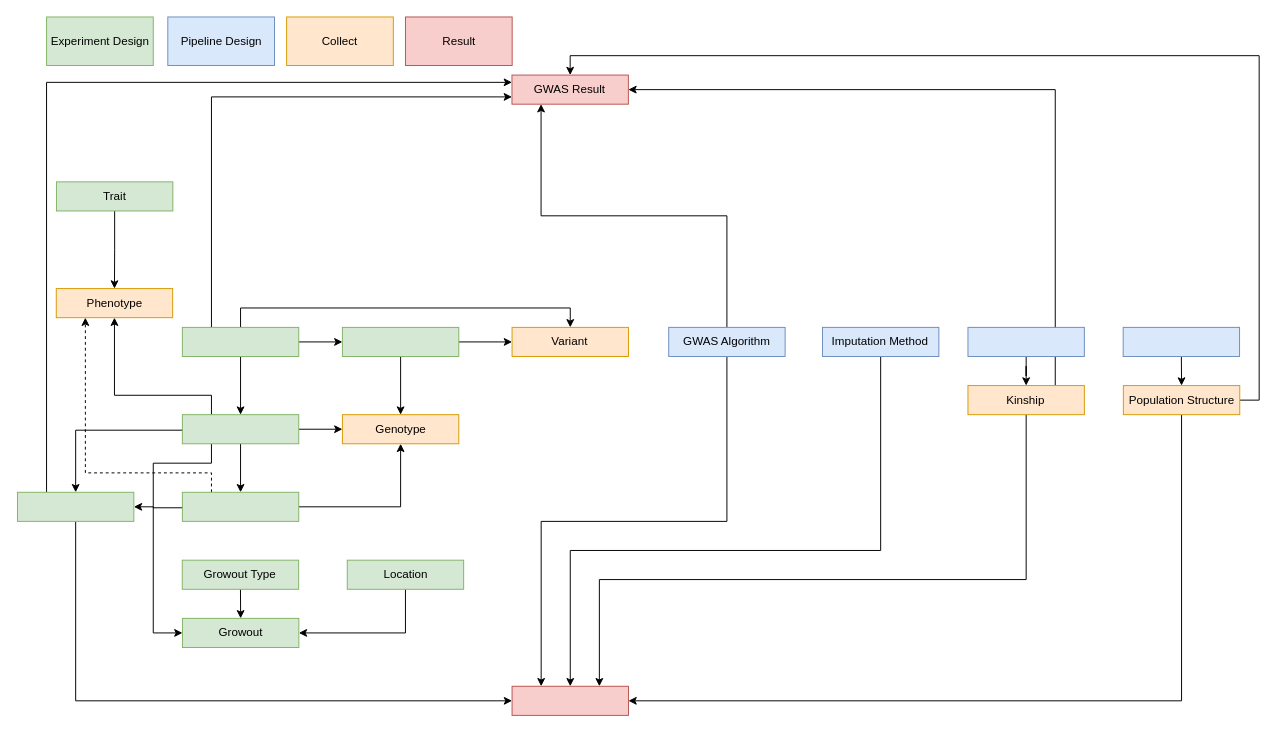
Some shapes in this 1284 by 732 pixel diagram are drawn without their labels. The centre of each missing label's shape, as x and y in pixels:
"Chromosome" goes at point (400, 341).
"Genotype Version" goes at point (75, 506).
"GWAS Run" goes at point (569, 700).
"Kinship Algorithm" goes at point (1025, 341).
"Line" goes at point (240, 506).
"Population" goes at point (240, 429).
"Population Structure Algorithm" goes at point (1181, 341).
"Species" goes at point (240, 341).
